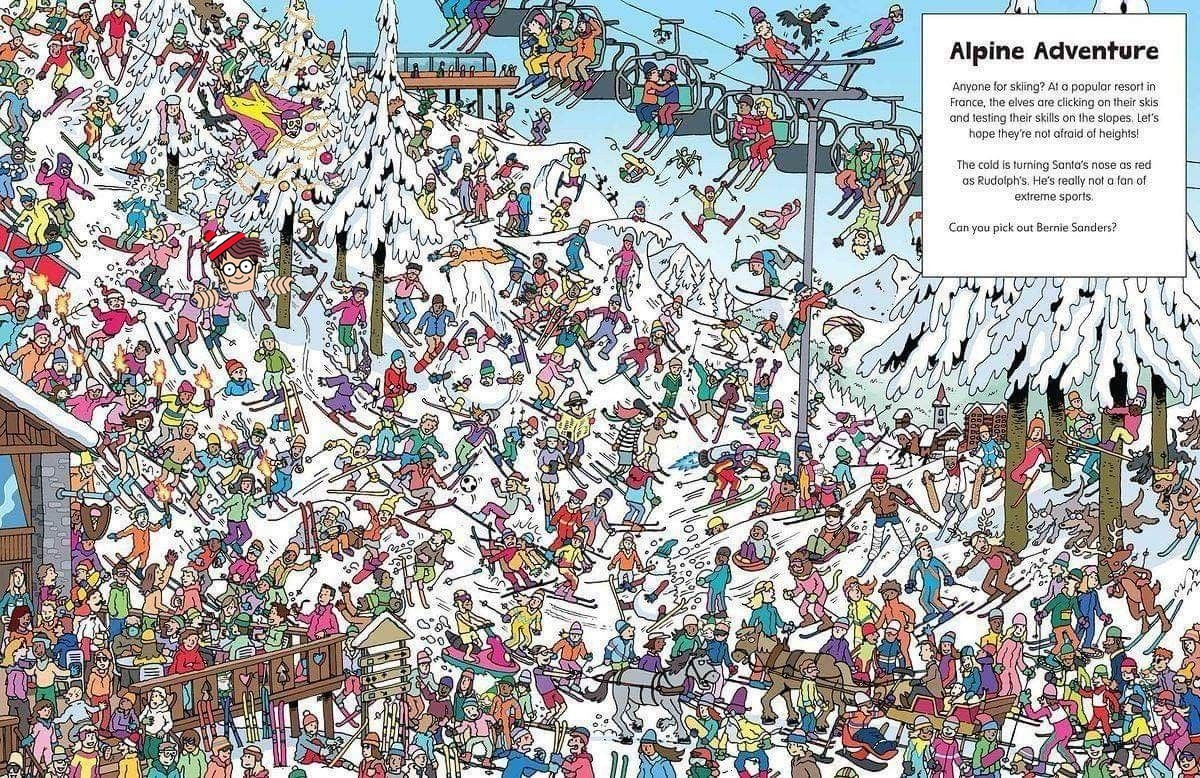waldo: (190, 230, 295, 309)
